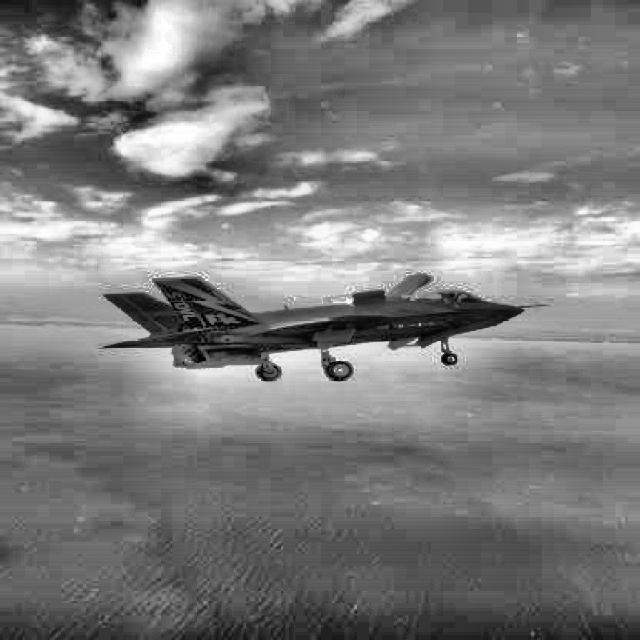F35: (94, 274, 549, 380)
